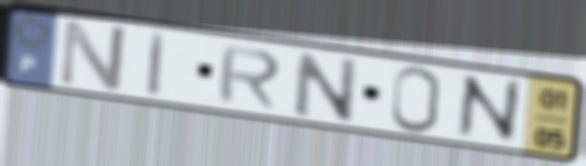0: (388, 63, 443, 137)
I: (144, 29, 169, 101)
N: (54, 15, 131, 94), (292, 48, 361, 125), (454, 71, 524, 145)
R: (214, 43, 285, 111)
